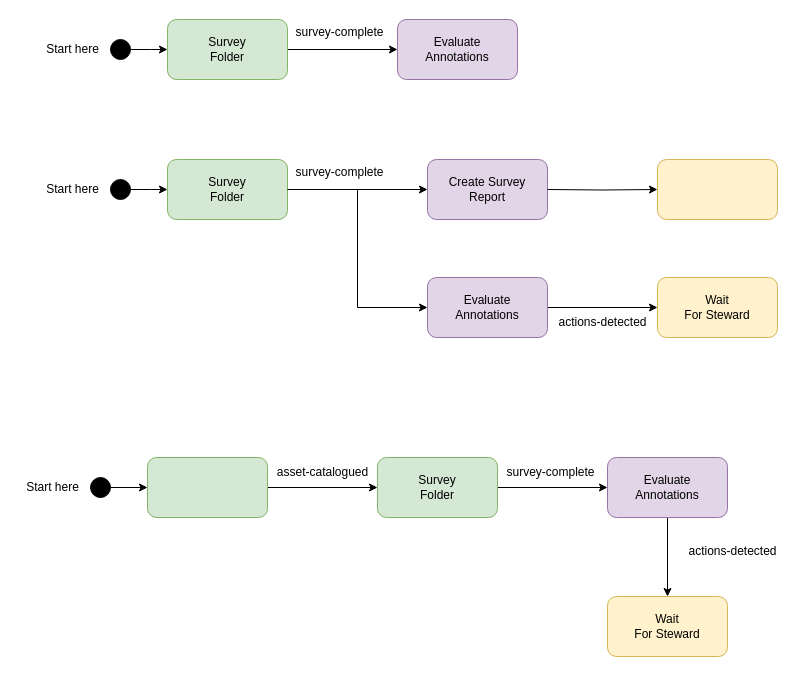
The diagram is 804 pixels wide and 674 high, and some of its shapes have lost their labels. The shapes that lost their labels are listed below. From the top down, each one's centre as x and y in pixels, then its label:
the point at 717,189: Notify Requestor
the point at 207,487: Catalog Folder
